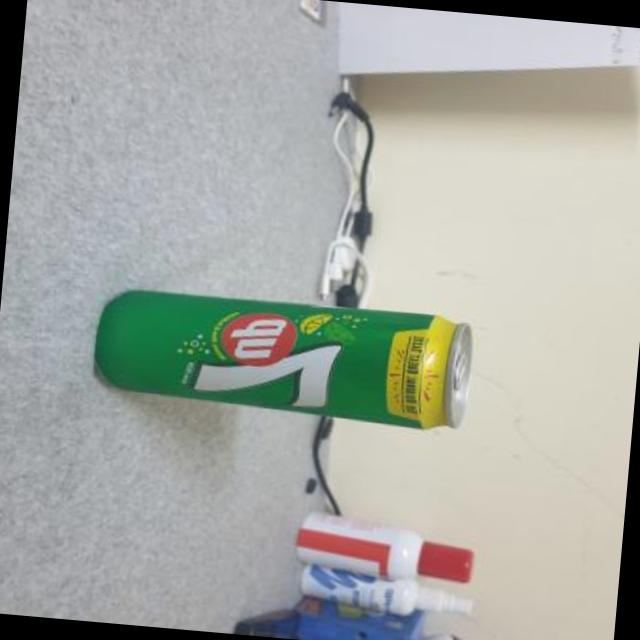metal: (96, 290, 473, 427)
